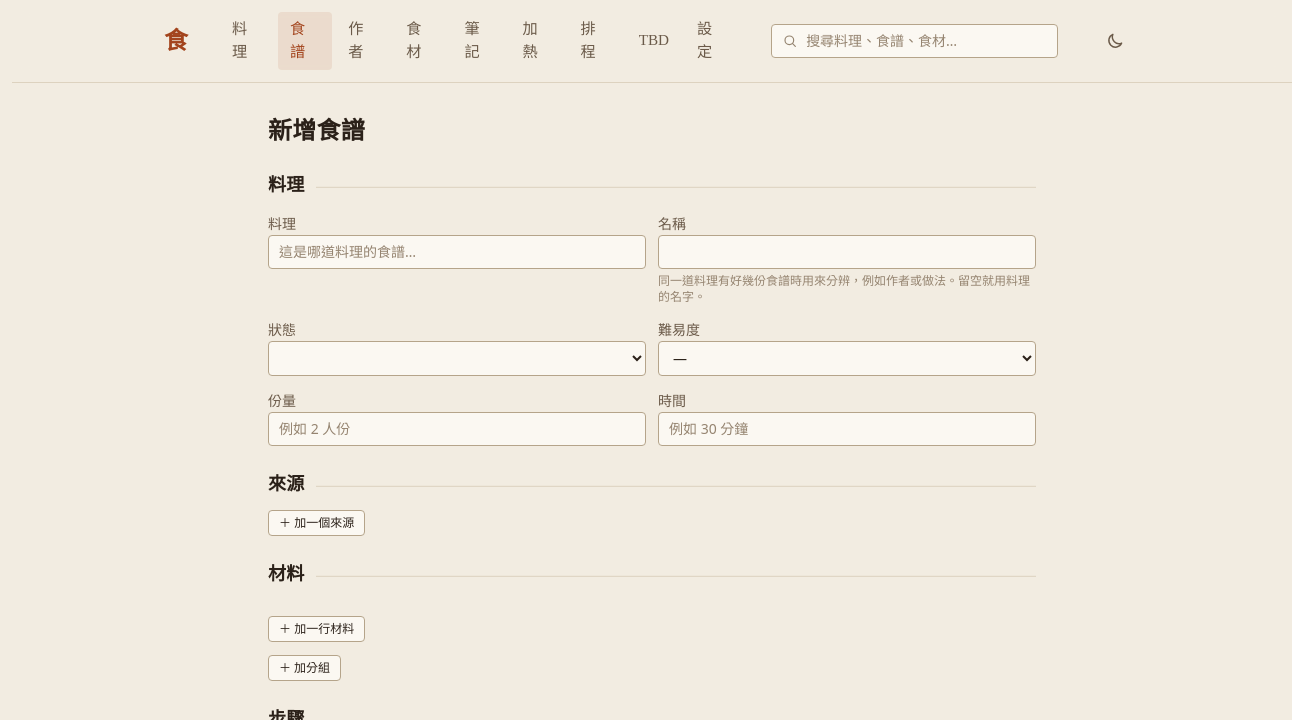
Test case: RecipeForm › shows the server sentence beside the save button and stays on the form
Type "x" into the dropdown labelled "料理" at (457, 252), box [268,235,646,269]
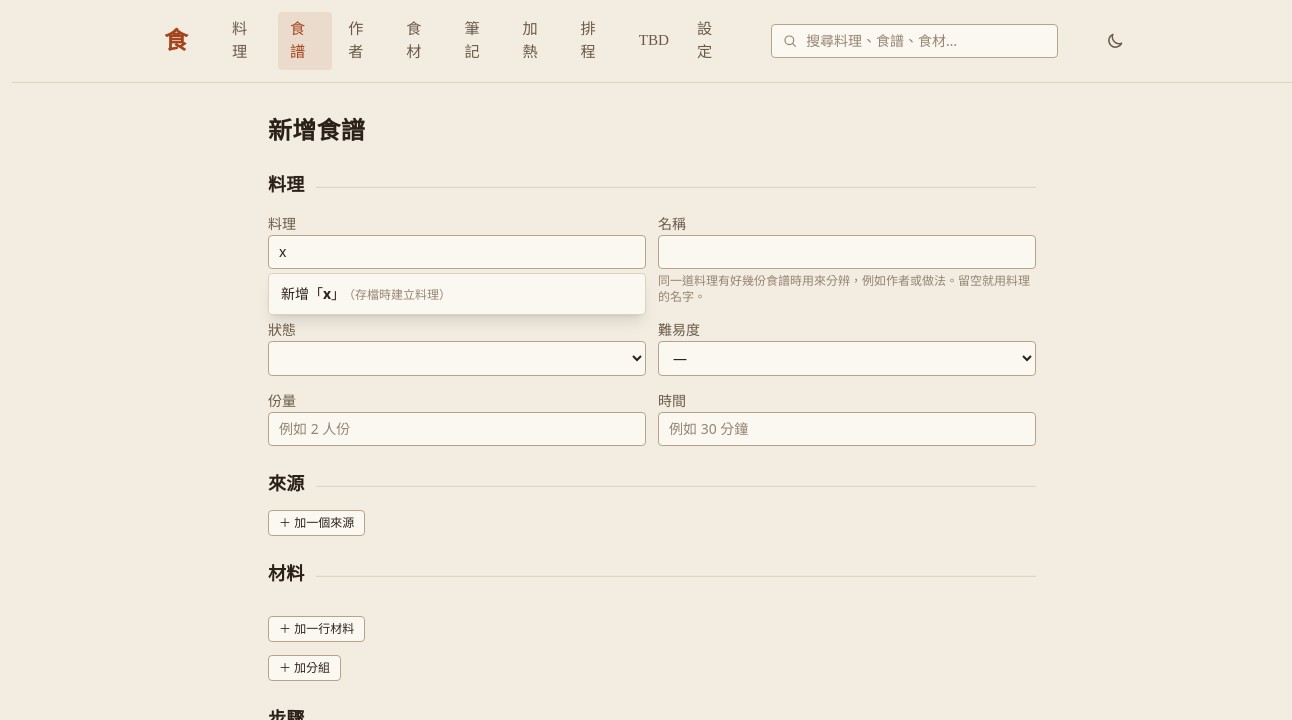
Click the option "新增「x」（存檔時建立料理）" at (366, 293), box [281,284,451,303]
(page scrolled)
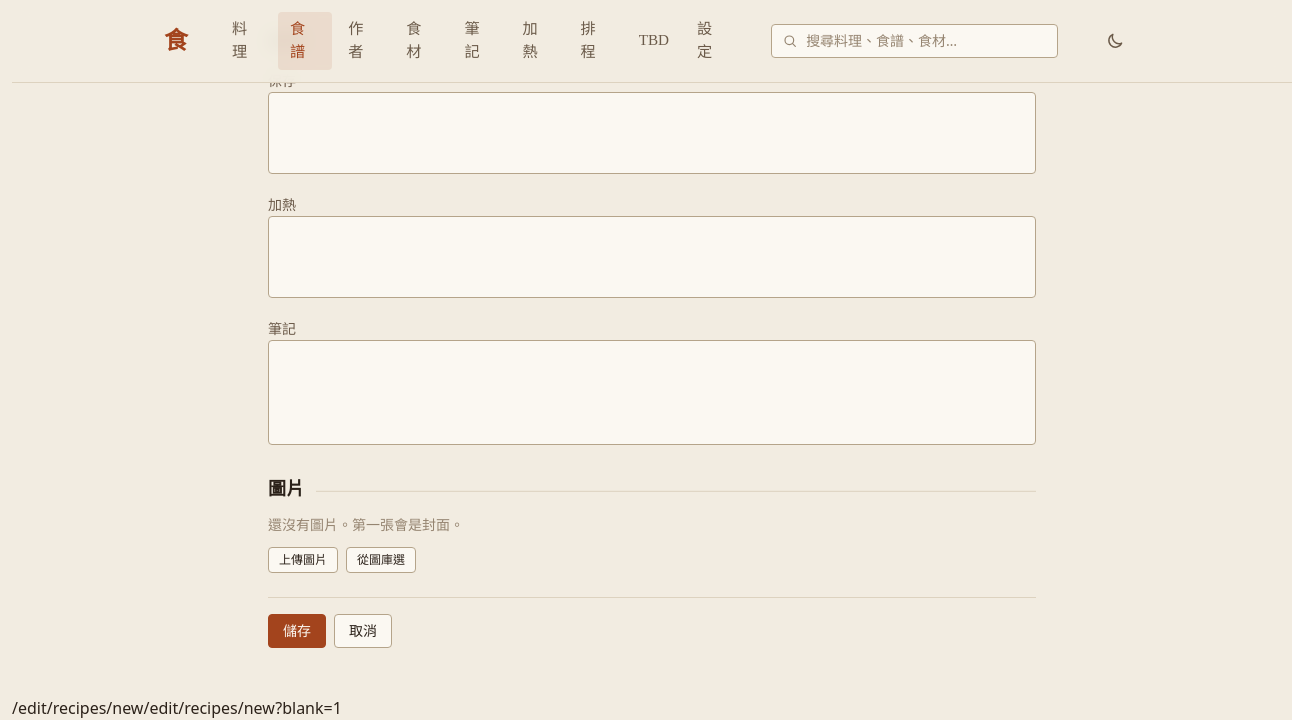
Click the button "儲存" at (297, 631), box [268,614,326,648]
(page scrolled)
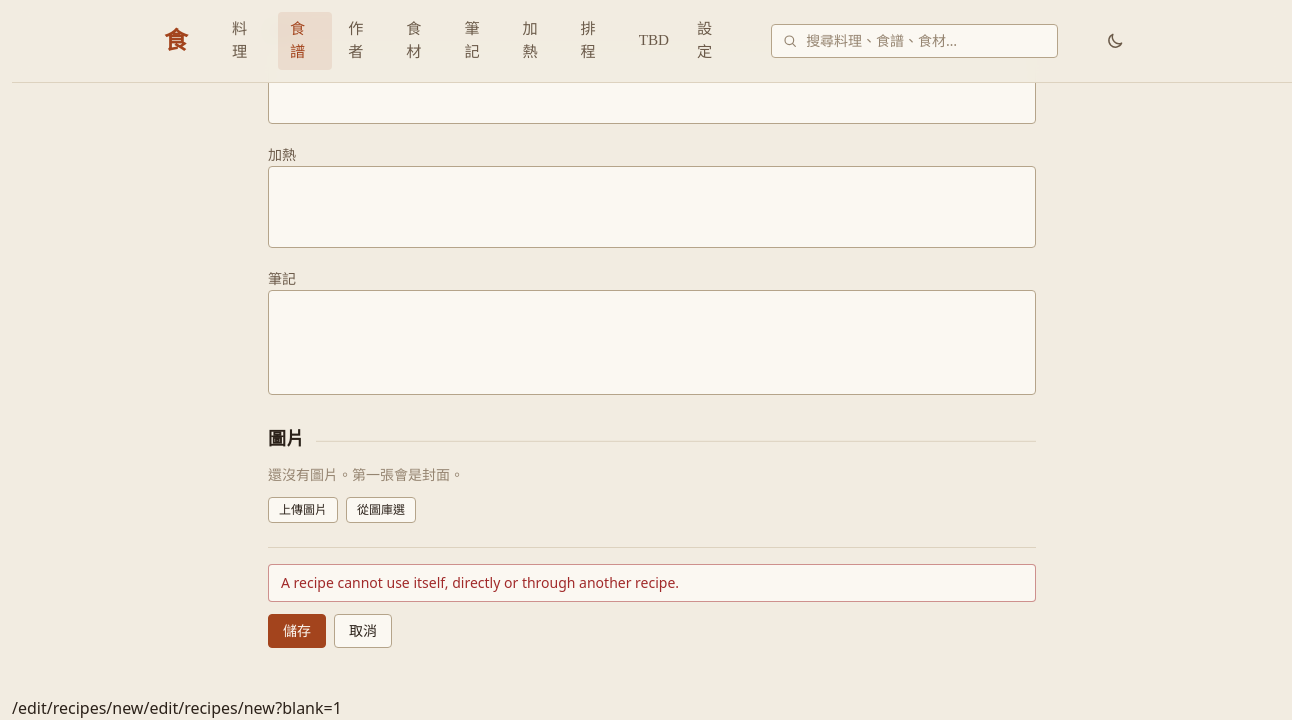
Expected: the text with test id "location" reads "/edit/recipes/new", [12,697,144,719]
Now the message reads "A recipe cannot use itself, directly or through another recipe.", box [281,573,679,592]
